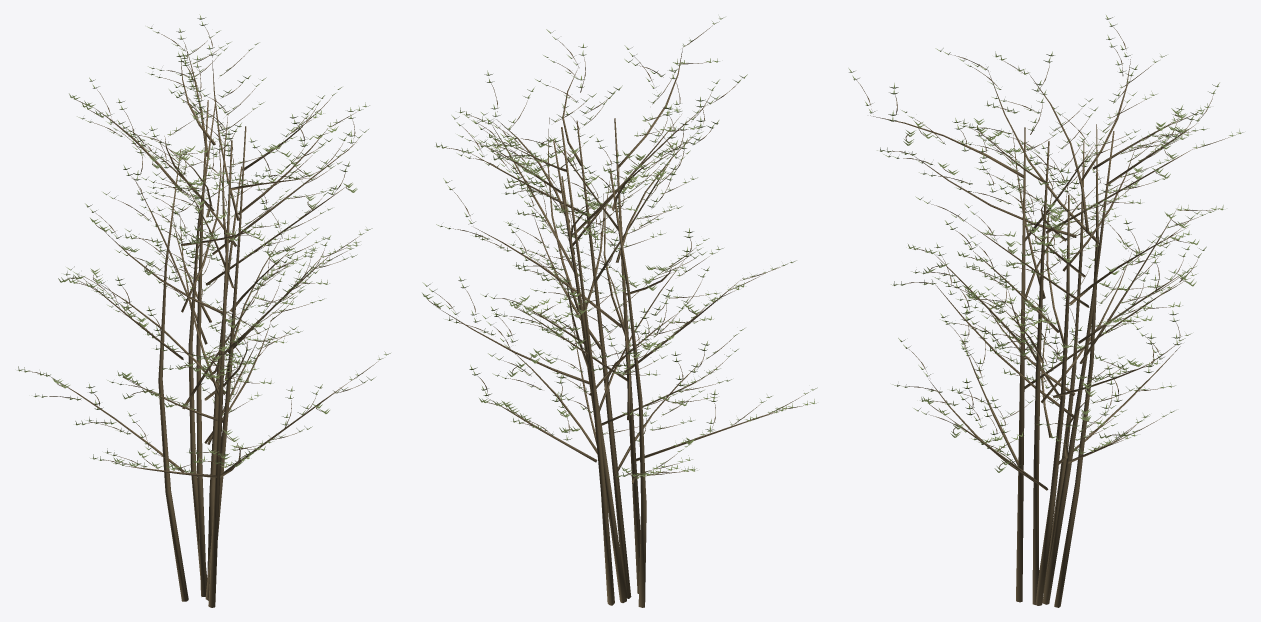
File: Bruyere_2_LOD1.fbx
3 renders of one model, left to right at view 1: azimuth 30°, elevation 25°; view 2: azimuth 150°, elevation 25°; view 3: azimuth 270°, elevation 25°, orthographic. The views are drawn at different scales.
Parts seen in each view (by area): view 1: Bruyere_2_LOD1; view 2: Bruyere_2_LOD1; view 3: Bruyere_2_LOD1.
Part boxes in pixels (x1,y1,x2,y2): Bruyere_2_LOD1: (17, 14, 390, 607); Bruyere_2_LOD1: (422, 16, 817, 607); Bruyere_2_LOD1: (848, 15, 1243, 607).
Bounding box in the file's own units: 246 × 374 × 252.
